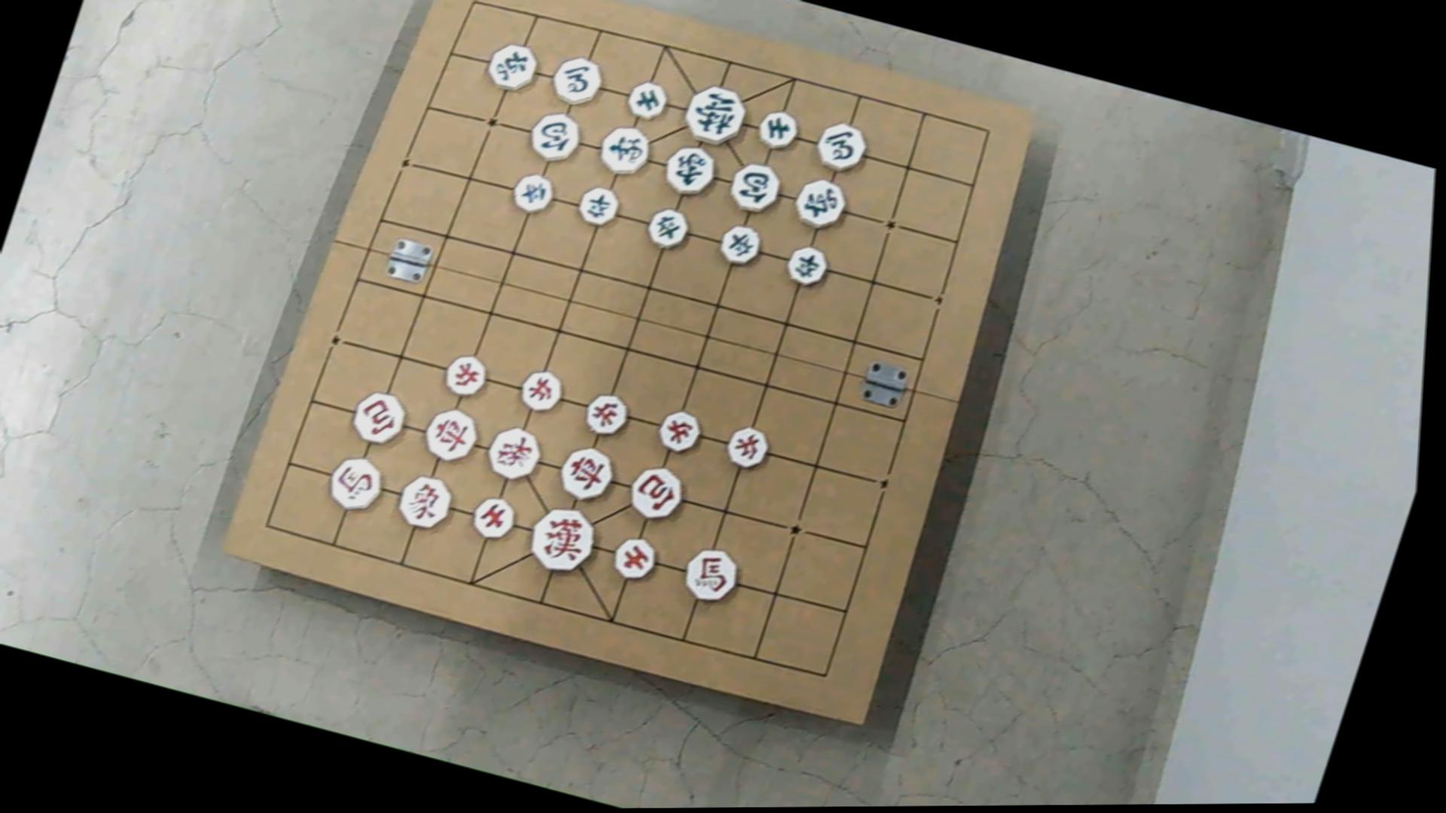cha_green: (789, 175, 854, 233), (482, 39, 543, 94)
cha_red: (553, 442, 620, 504), (418, 404, 484, 466)
jol_green: (783, 242, 833, 289), (716, 221, 766, 268), (508, 169, 557, 216), (642, 206, 693, 251), (575, 183, 624, 229)
jol_red: (438, 350, 493, 400), (580, 390, 633, 439), (721, 423, 774, 472), (516, 367, 568, 416), (654, 407, 706, 455)
ma_green: (546, 51, 609, 109), (810, 118, 873, 175)
ma_red: (324, 452, 390, 515), (679, 544, 744, 606)
po_green: (723, 157, 788, 218), (523, 107, 586, 166)
po_red: (623, 461, 691, 525), (347, 387, 412, 448)
sa_green: (753, 107, 804, 154), (621, 78, 673, 123)
sa_red: (609, 533, 661, 583), (468, 494, 521, 543)
sang_green: (658, 140, 723, 200), (593, 120, 657, 180)
sang_red: (393, 471, 459, 532), (481, 423, 547, 483)
wang_green: (679, 81, 754, 150)
wang_red: (523, 501, 603, 577)
